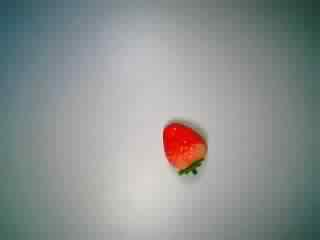strawberry: (146, 116, 214, 180)
